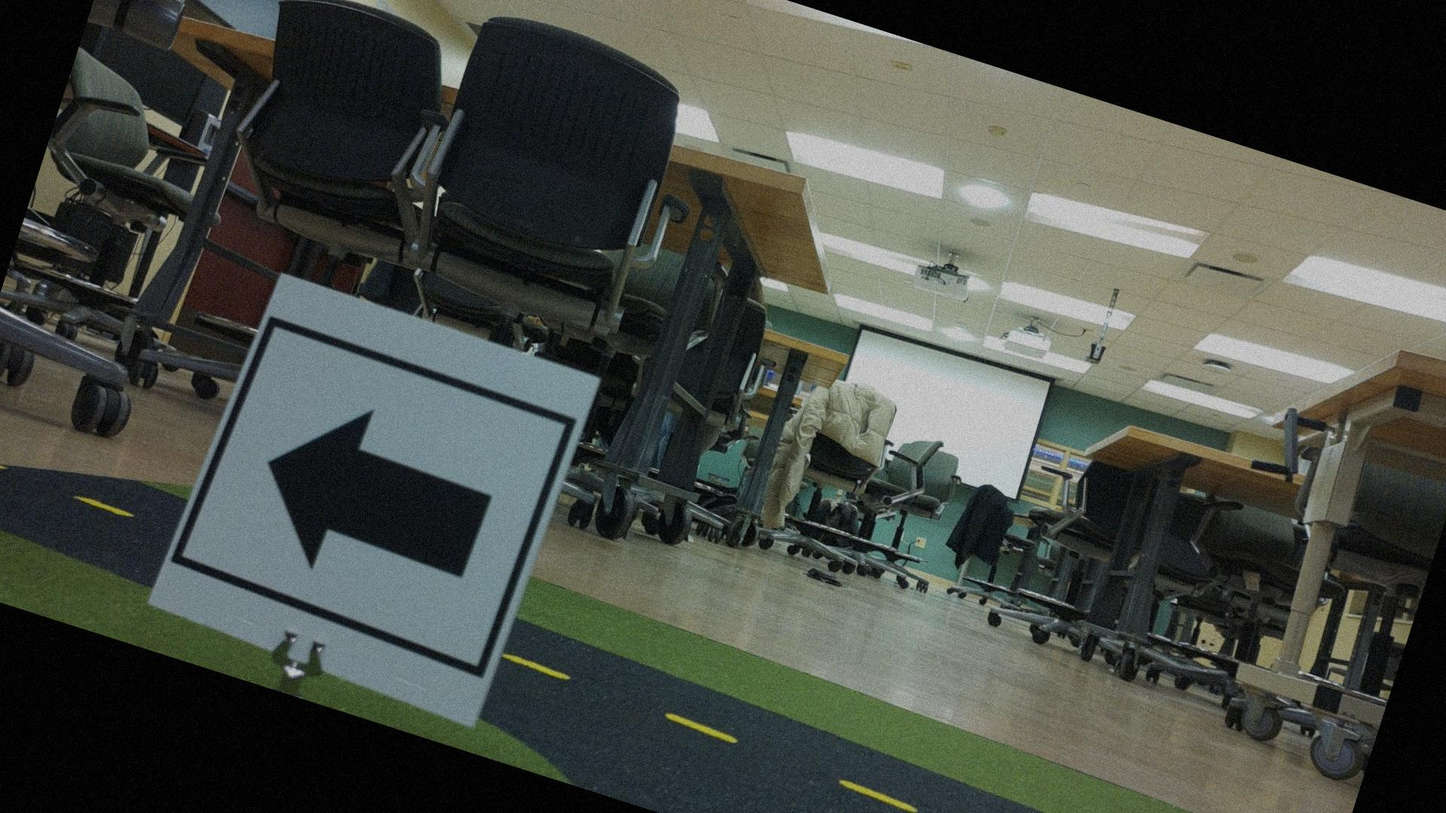turnleft: (189, 286, 581, 677)
yellowline: (491, 650, 1321, 812)
